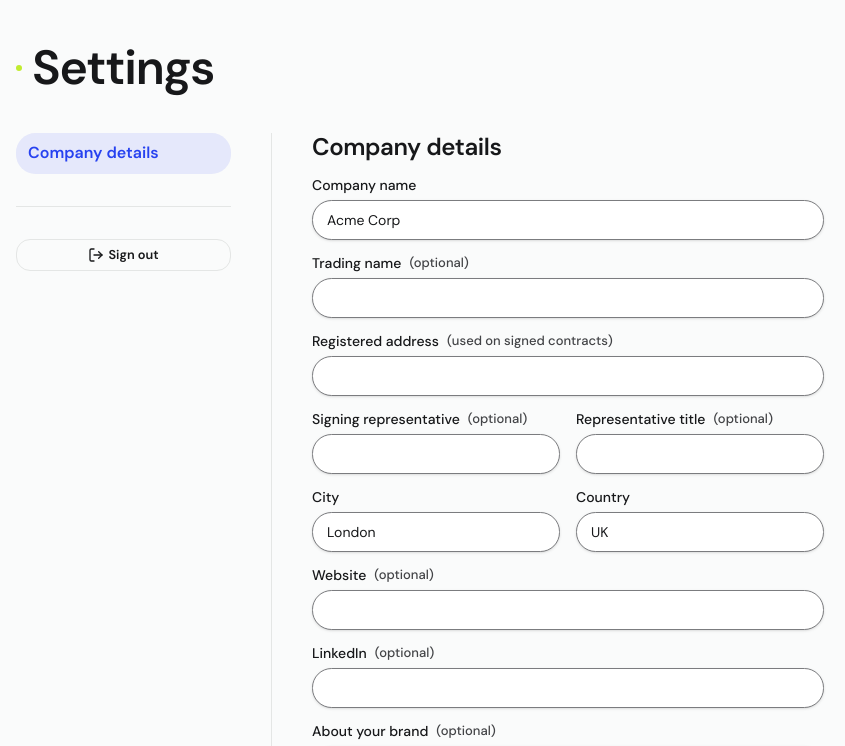
Scenario: BrandSettingsForm › shows validation error when company_name is cleared
Clear the field labelled "Company name" at (568, 220), box x1=312 y1=200 x2=824 y2=240
(page scrolled)
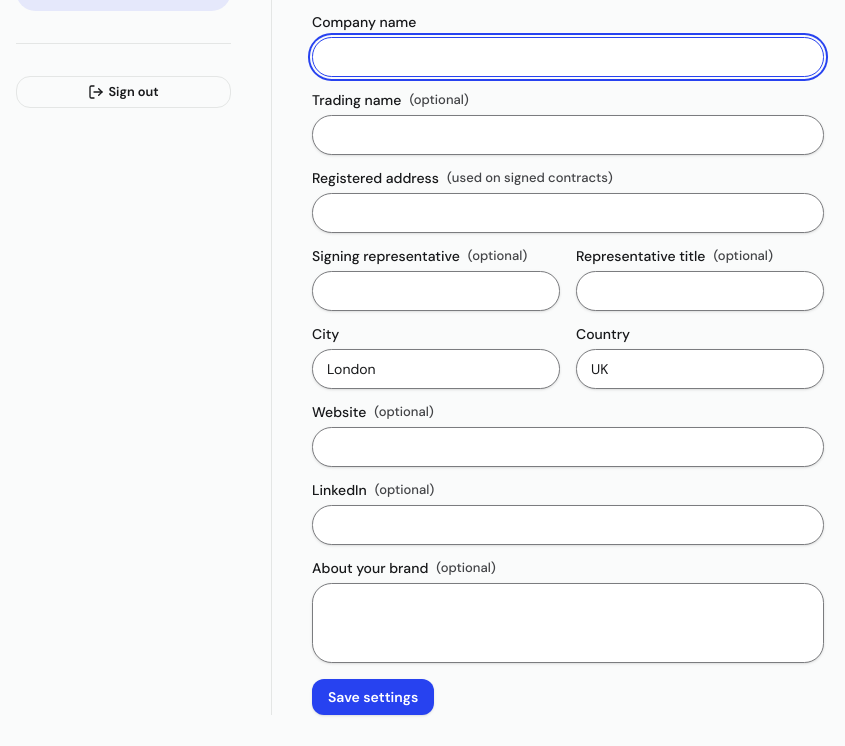
Click the button "Save settings" at (373, 697), box x1=312 y1=679 x2=434 y2=715
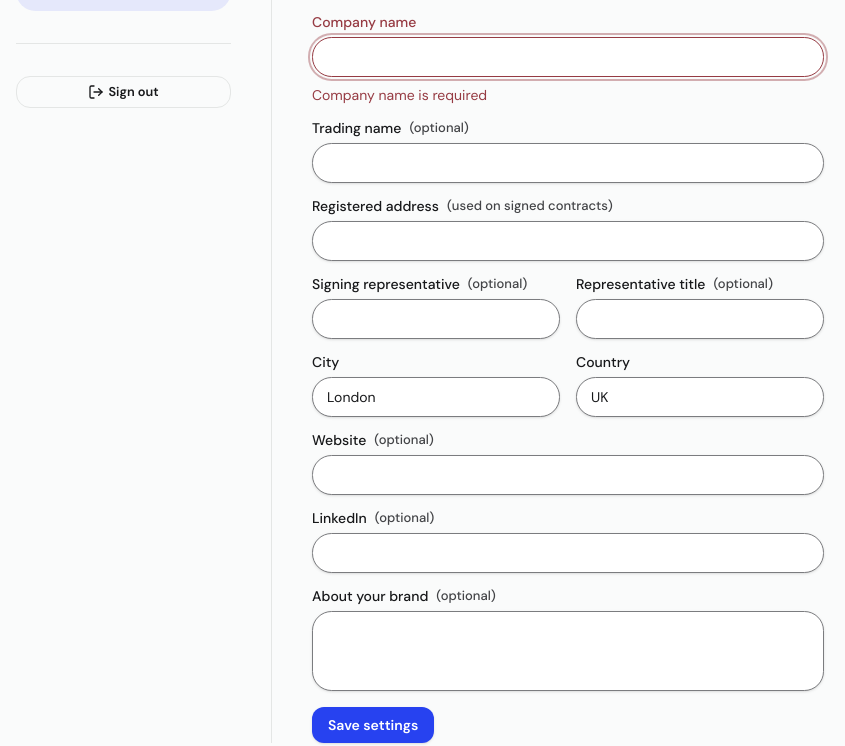
Now the text "Company name is required" is shown, box x1=312 y1=86 x2=487 y2=104
